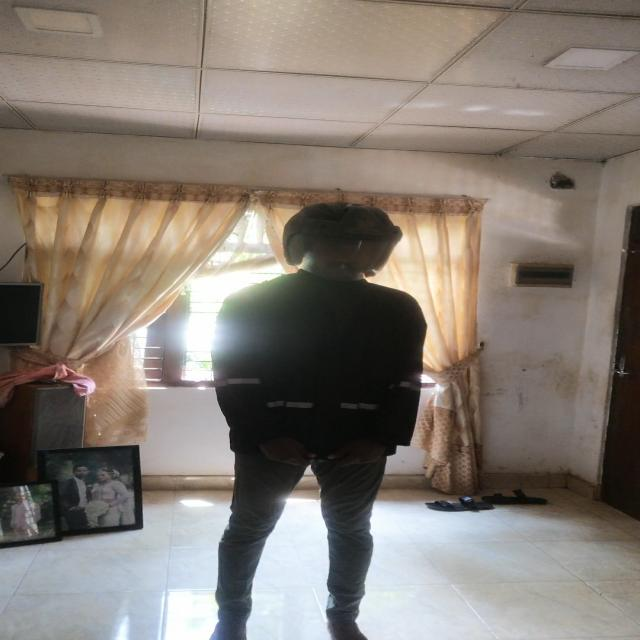Helmet_Wearer: (272, 195, 410, 305)
Jacket_Wearer: (212, 273, 431, 474)
Person: (200, 199, 444, 640)
